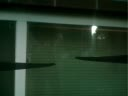window: (0, 7, 24, 96), (32, 81, 60, 96), (31, 42, 55, 57), (80, 88, 99, 96), (82, 63, 87, 68)
